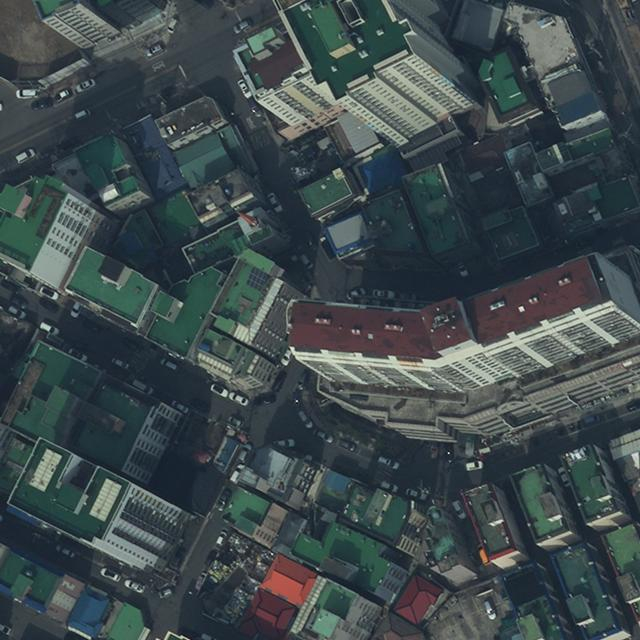panel: (244, 265, 267, 291)
